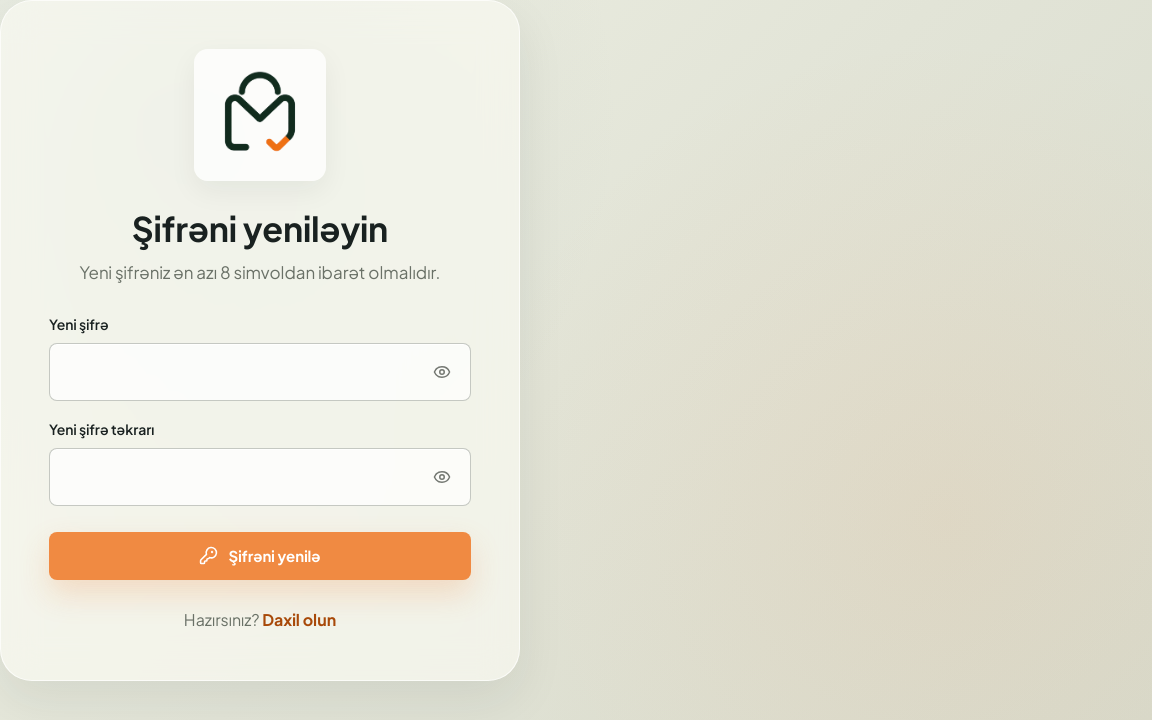
ResetPasswordPage › submits the query token and new password
Type "password123" into the password field labelled "Yeni şifrə" at (260, 372), box [49, 343, 471, 401]
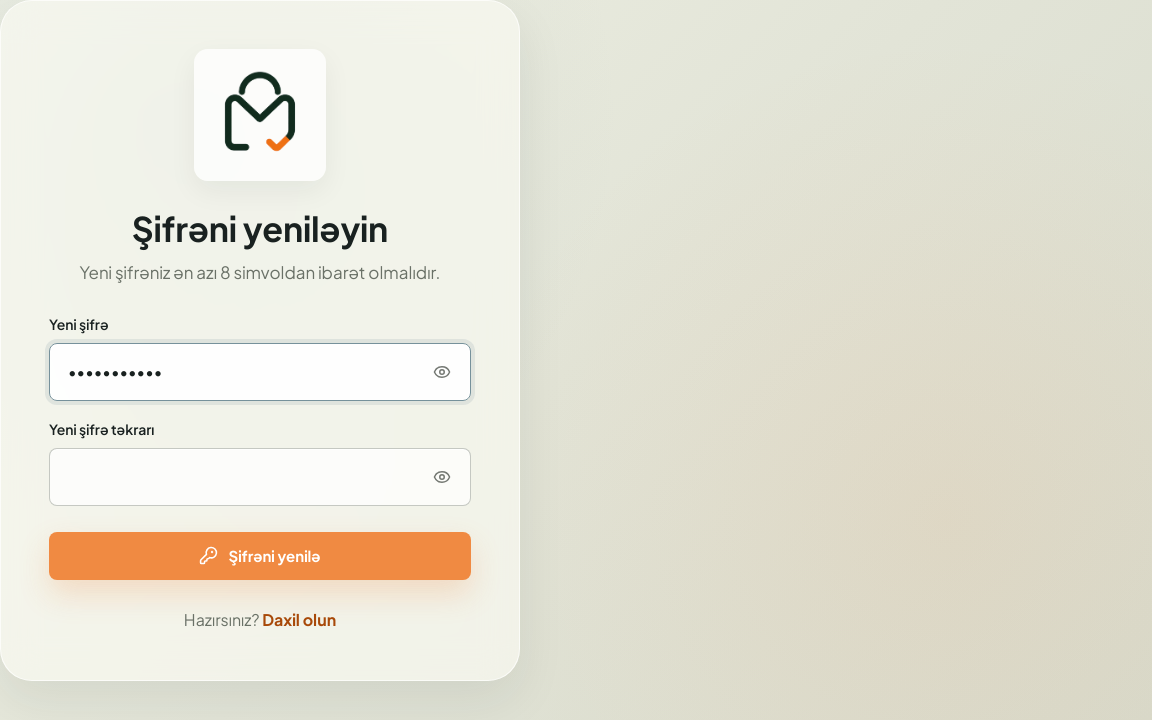
Type "password123" into the password field labelled "Yeni şifrə təkrarı" at (260, 477), box [49, 448, 471, 506]
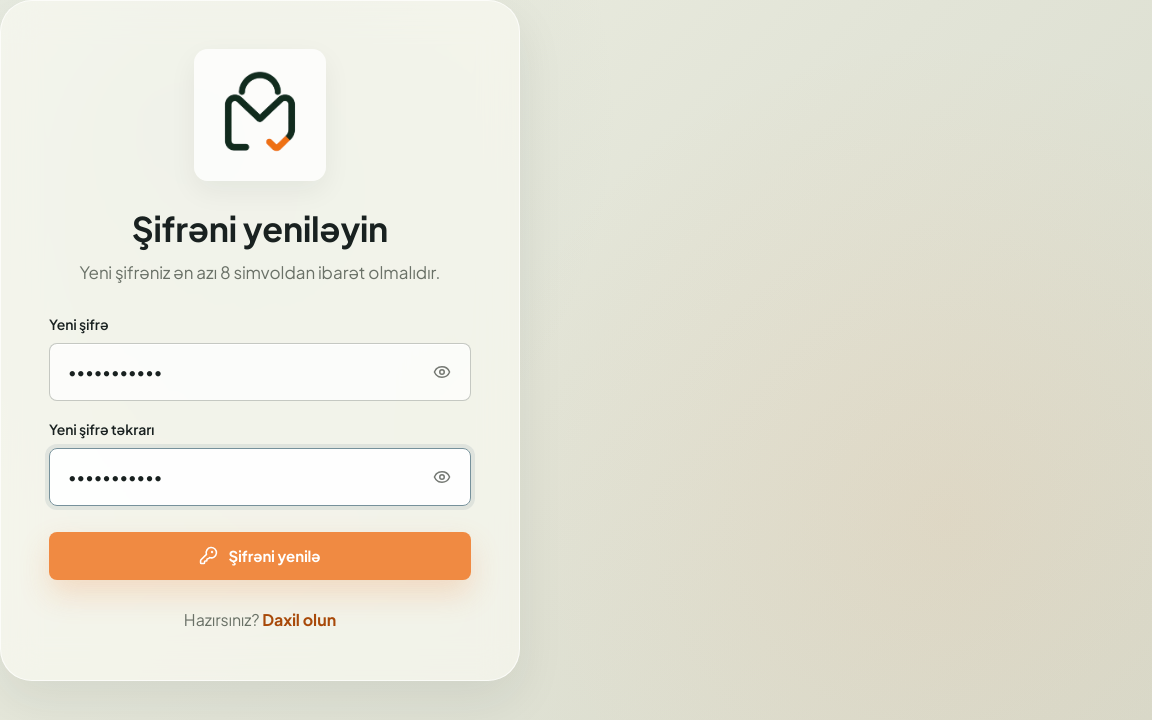
Click the button "Şifrəni yenilə" at (260, 556), box [49, 532, 471, 580]
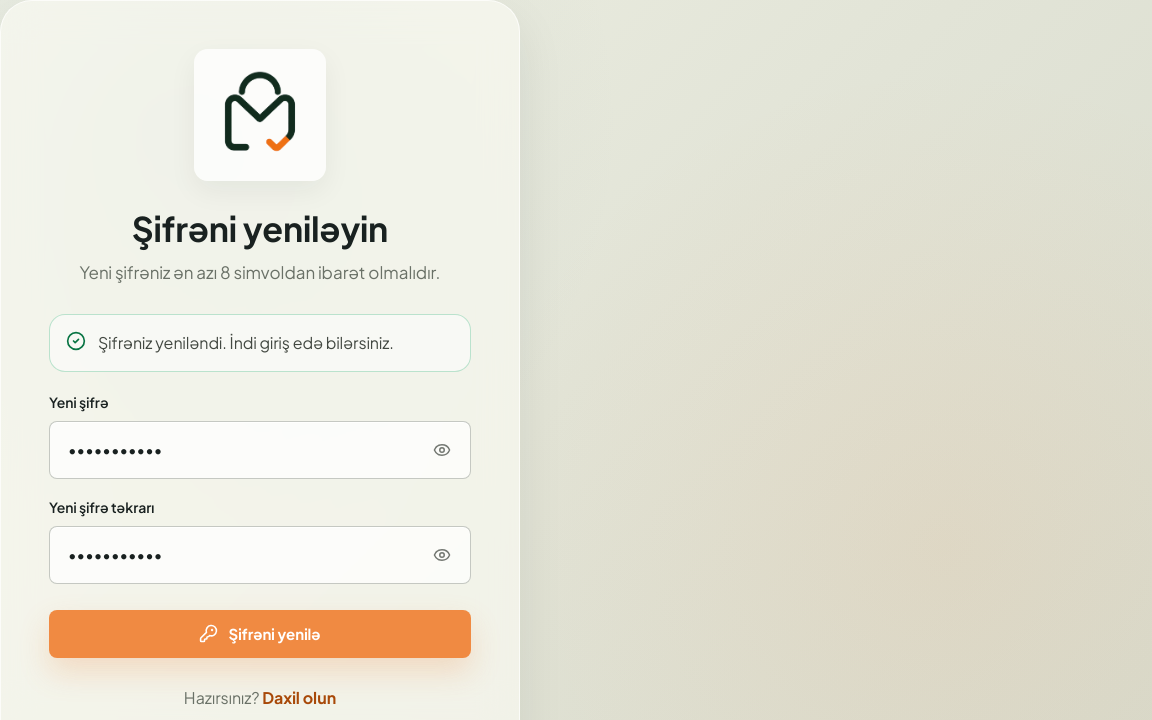
Now the text "Şifrəniz yeniləndi. İndi giriş edə bilərsiniz." is shown, box [98, 332, 394, 353]
